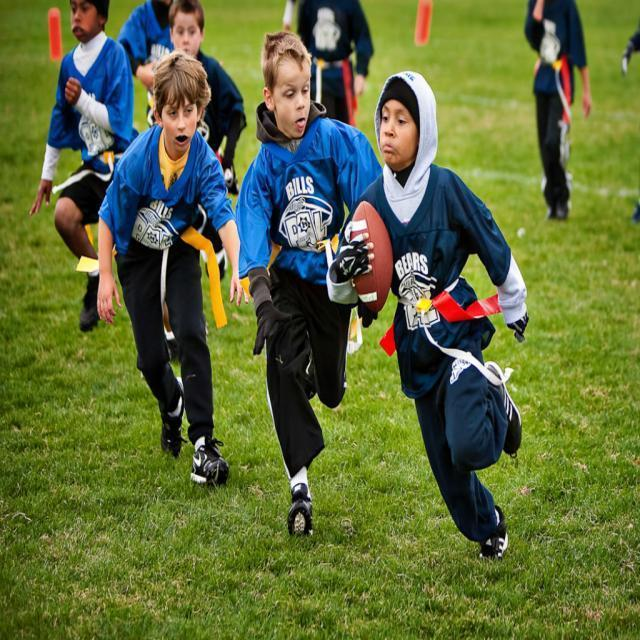ball: (347, 199, 393, 314)
